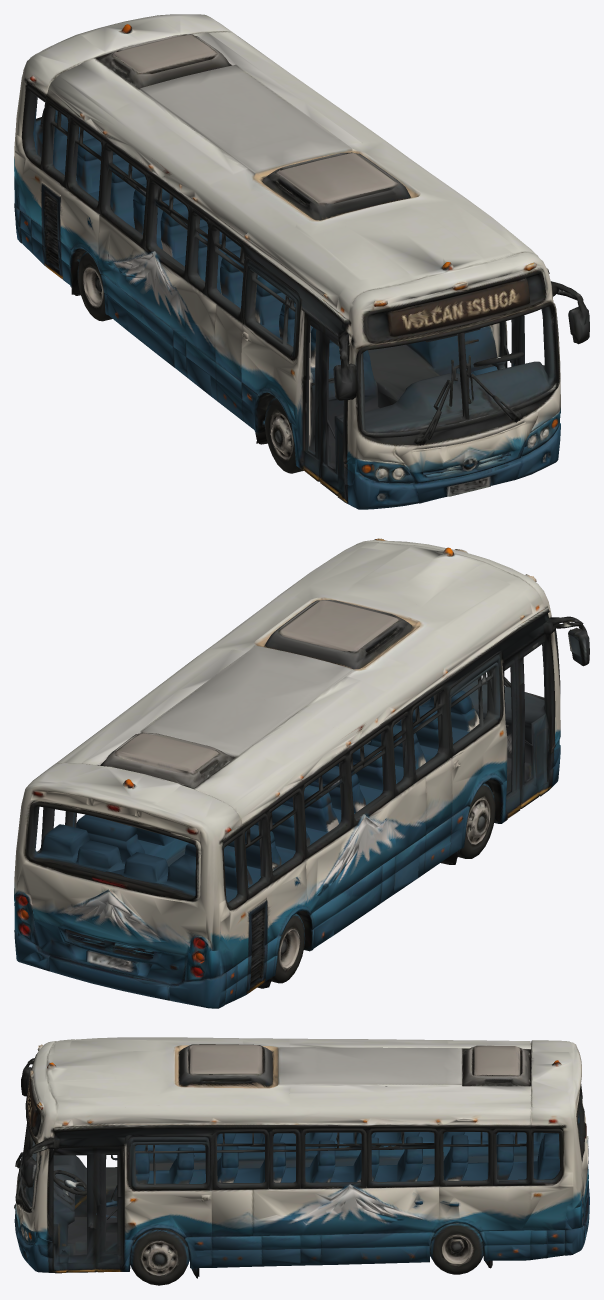
File: bus.glb
The picture shows the model from 3 angles, top to bottom: view 1: azimuth 30°, elevation 25°; view 2: azimuth 150°, elevation 25°; view 3: azimuth 270°, elevation 25°; orthographic projection. The views are drawn at different scales.
Parts seen in each view (by area): view 1: bus; view 2: bus; view 3: bus.
Boxes of the visible parts, bbox=[...] form: bus: bbox=[14, 14, 589, 509]; bus: bbox=[14, 538, 589, 1008]; bus: bbox=[14, 1037, 589, 1285].
Size of what is drawn, in the model's own units: 3.74 by 3.4 by 9.32.
1 material, 1 textured.
